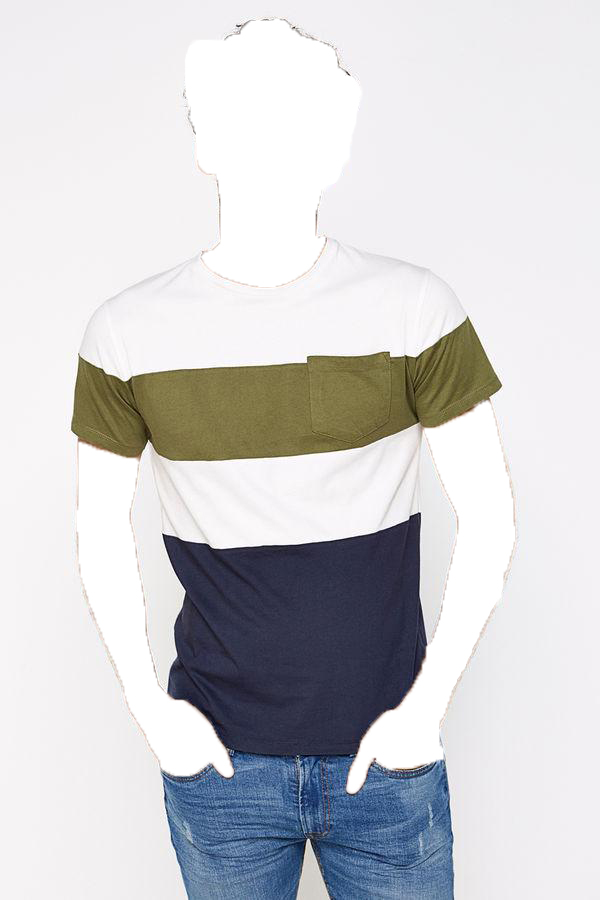teeshirt: (63, 243, 511, 769)
